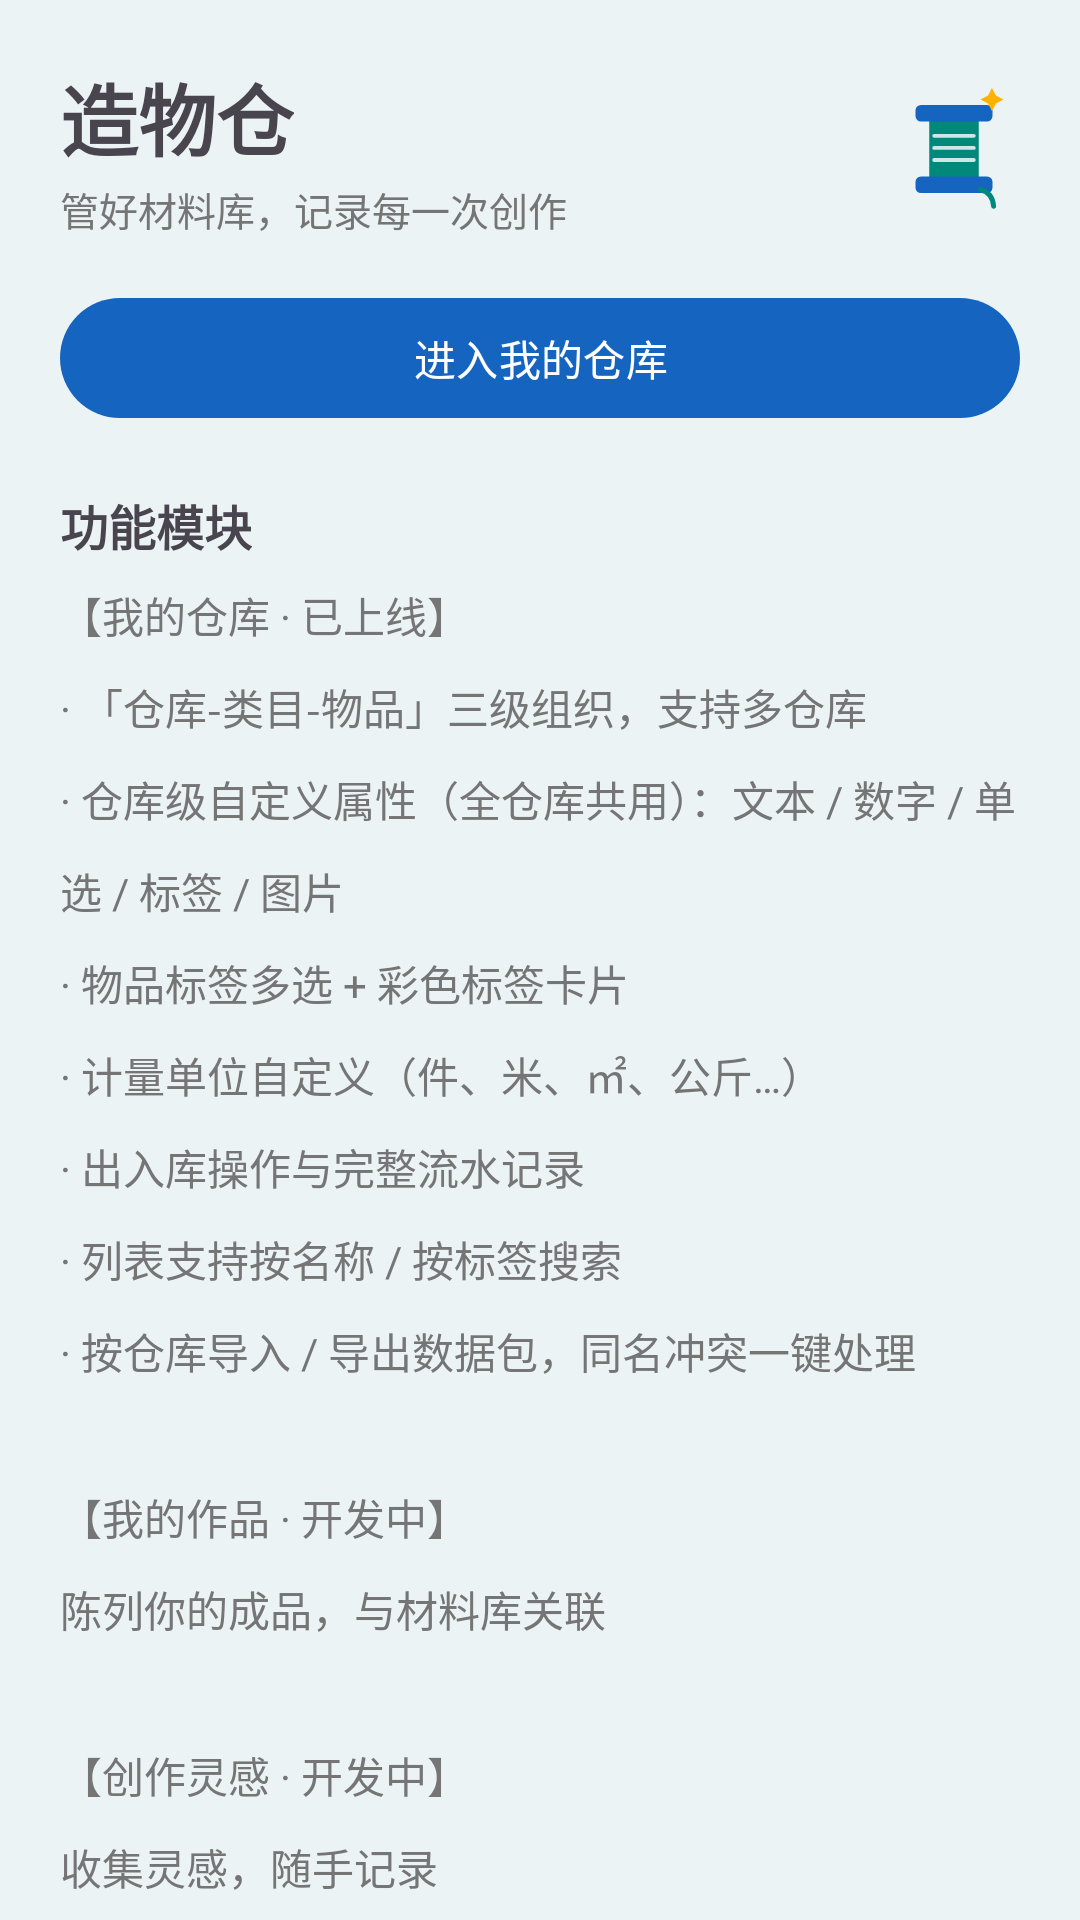

Icons on this 1080w x 1920h Android screen, each with the point to tap as point (x, y):
brand: point (959, 148)
